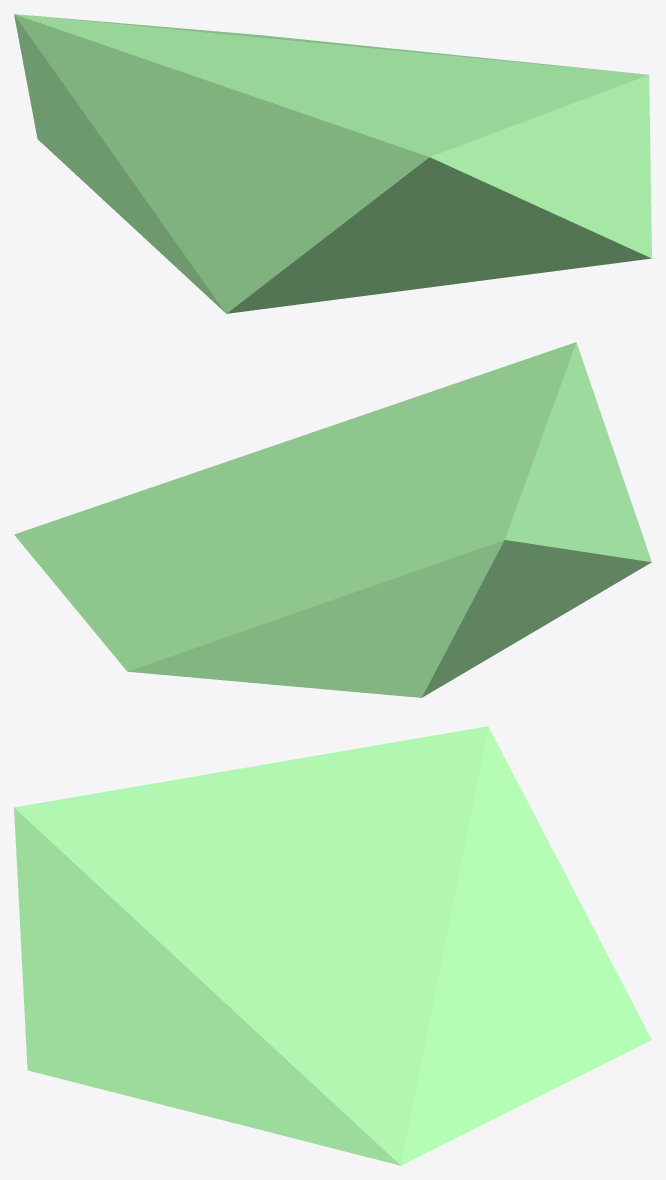
File: linkhou_LR4_R560_link3_respondable_coll_5.dae
3 views of the same model, one above another, from view 1: azimuth 30°, elevation 25°; view 2: azimuth 150°, elevation 25°; view 3: azimuth 270°, elevation 25° (orthographic). The views are drawn at different scales.
Visible parts, largest first — view 1: Node_00000209DB3AD520; view 2: Node_00000209DB3AD520; view 3: Node_00000209DB3AD520.
Part boxes in pixels (x1=…): Node_00000209DB3AD520: x1=14, y1=14, x2=651, y2=313; Node_00000209DB3AD520: x1=14, y1=342, x2=651, y2=697; Node_00000209DB3AD520: x1=14, y1=726, x2=651, y2=1165.
Size of the model in its own units: 0.0505 by 0.014 by 0.0494.
